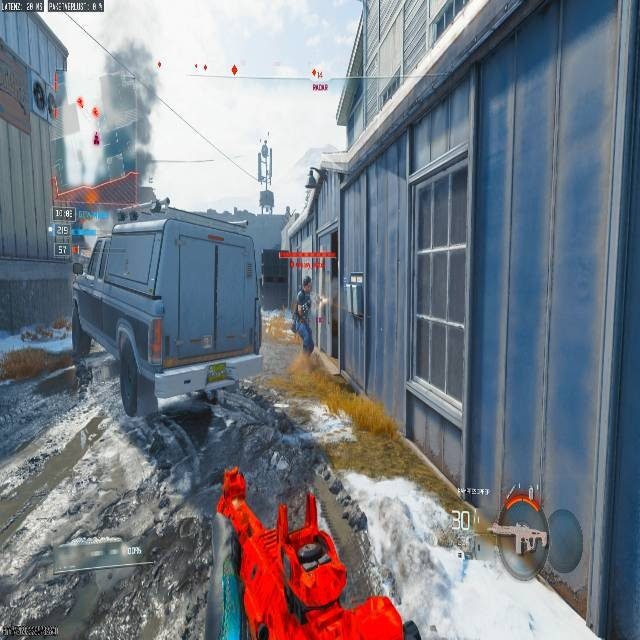head: (303, 276, 311, 288)
player: (295, 276, 314, 351)
